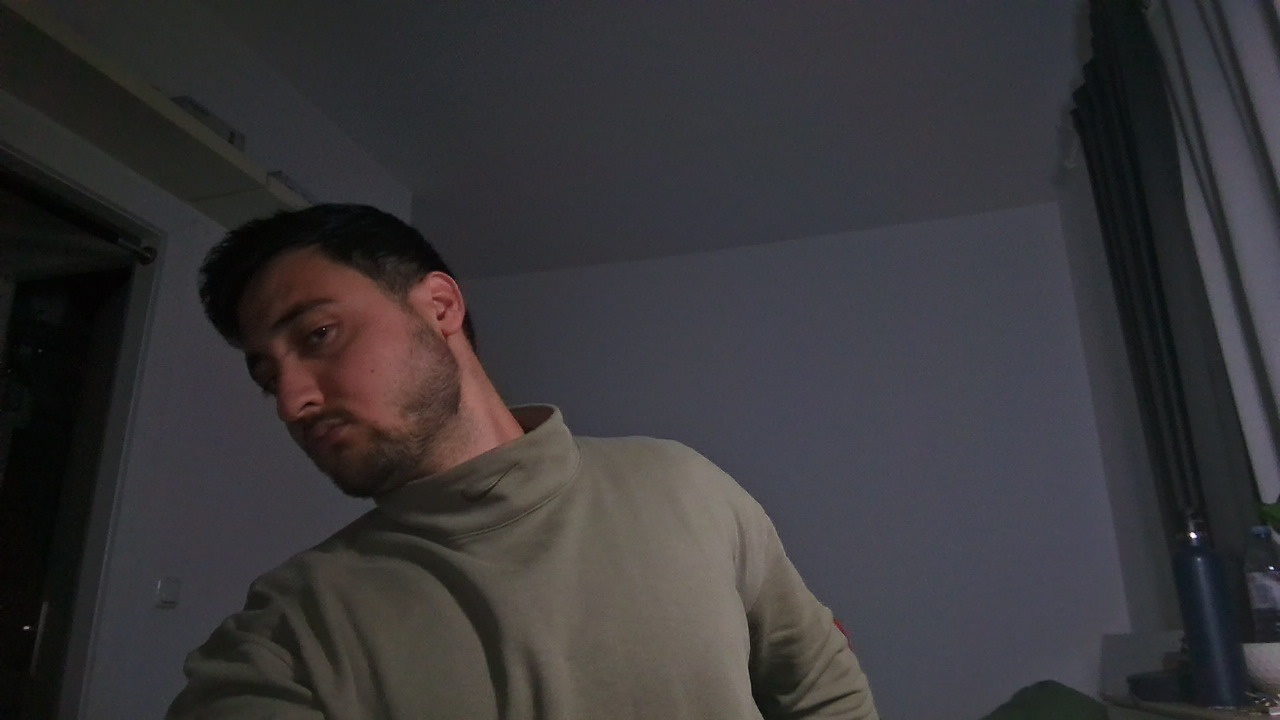Wasserflasche: (1145, 495, 1264, 711)
me: (157, 174, 580, 519)
